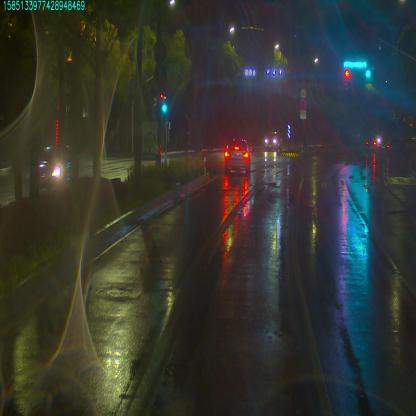traffic-light: (343, 60, 367, 69), (365, 70, 372, 80), (344, 69, 349, 78)
